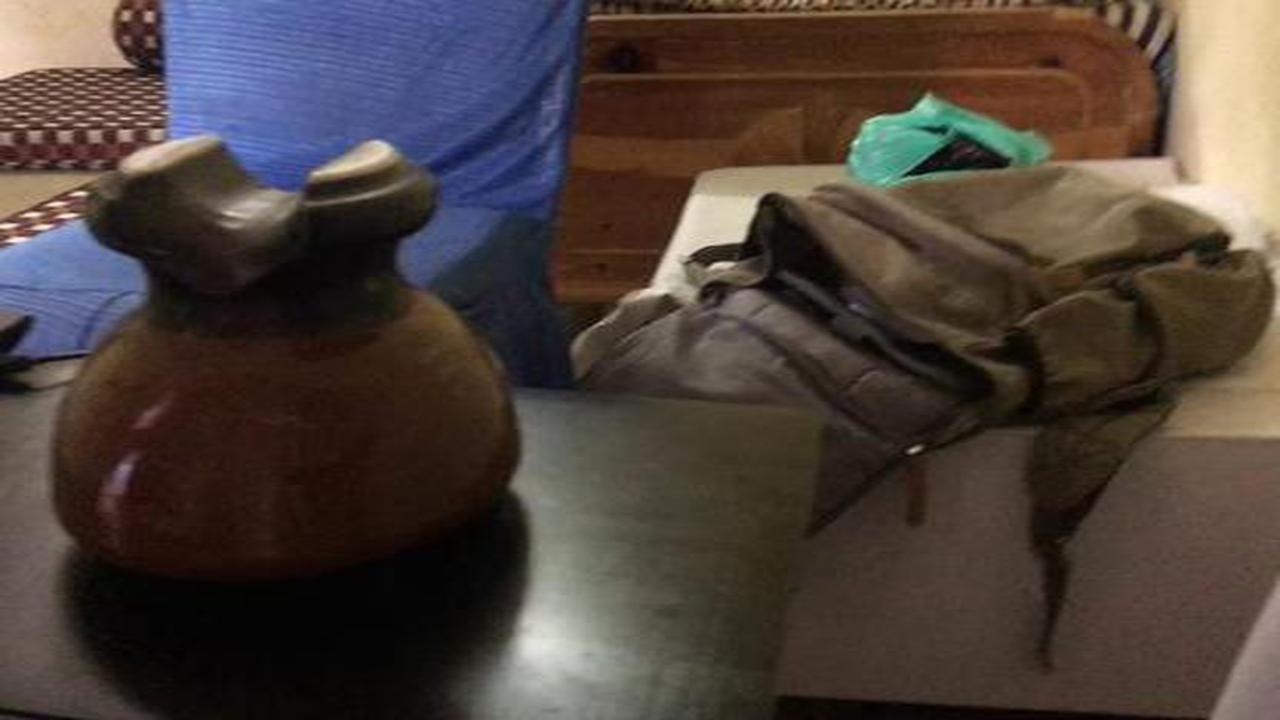insulator_pin: (44, 130, 545, 613)
